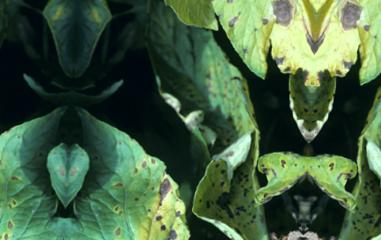Tomato Septoria leaf spot: (59, 110, 204, 240), (175, 0, 322, 98), (184, 120, 301, 240)
